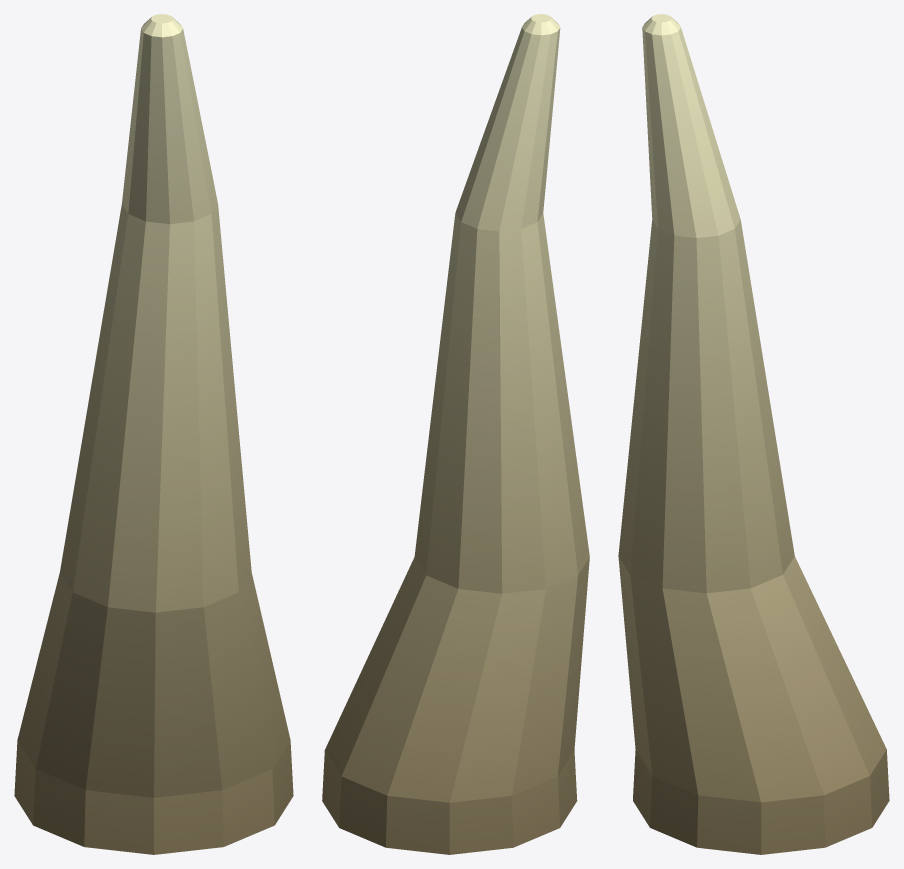
Rendered from OldPillar_02.fbx.
3 renders of one model, left to right at view 1: azimuth 30°, elevation 25°; view 2: azimuth 150°, elevation 25°; view 3: azimuth 270°, elevation 25°, orthographic. The views are drawn at different scales.
Visible parts, largest first — view 1: OldPillar_02_Mesh; view 2: OldPillar_02_Mesh; view 3: OldPillar_02_Mesh.
Boxes of the visible parts, x1,y1,x2,y2 form: OldPillar_02_Mesh: (14,14,293,854); OldPillar_02_Mesh: (322,14,589,854); OldPillar_02_Mesh: (618,14,889,854).
Bounding box in the file's own units: 362 × 1184 × 382.
